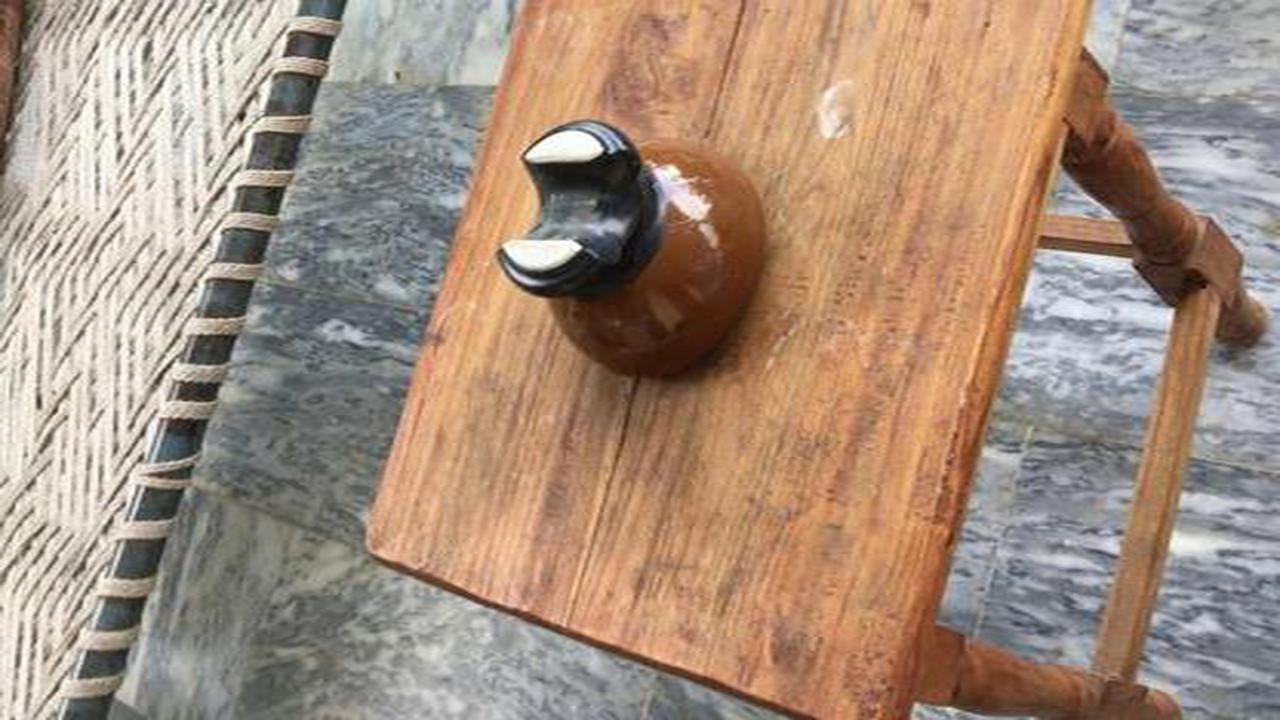insulator_pin: (480, 113, 794, 399)
